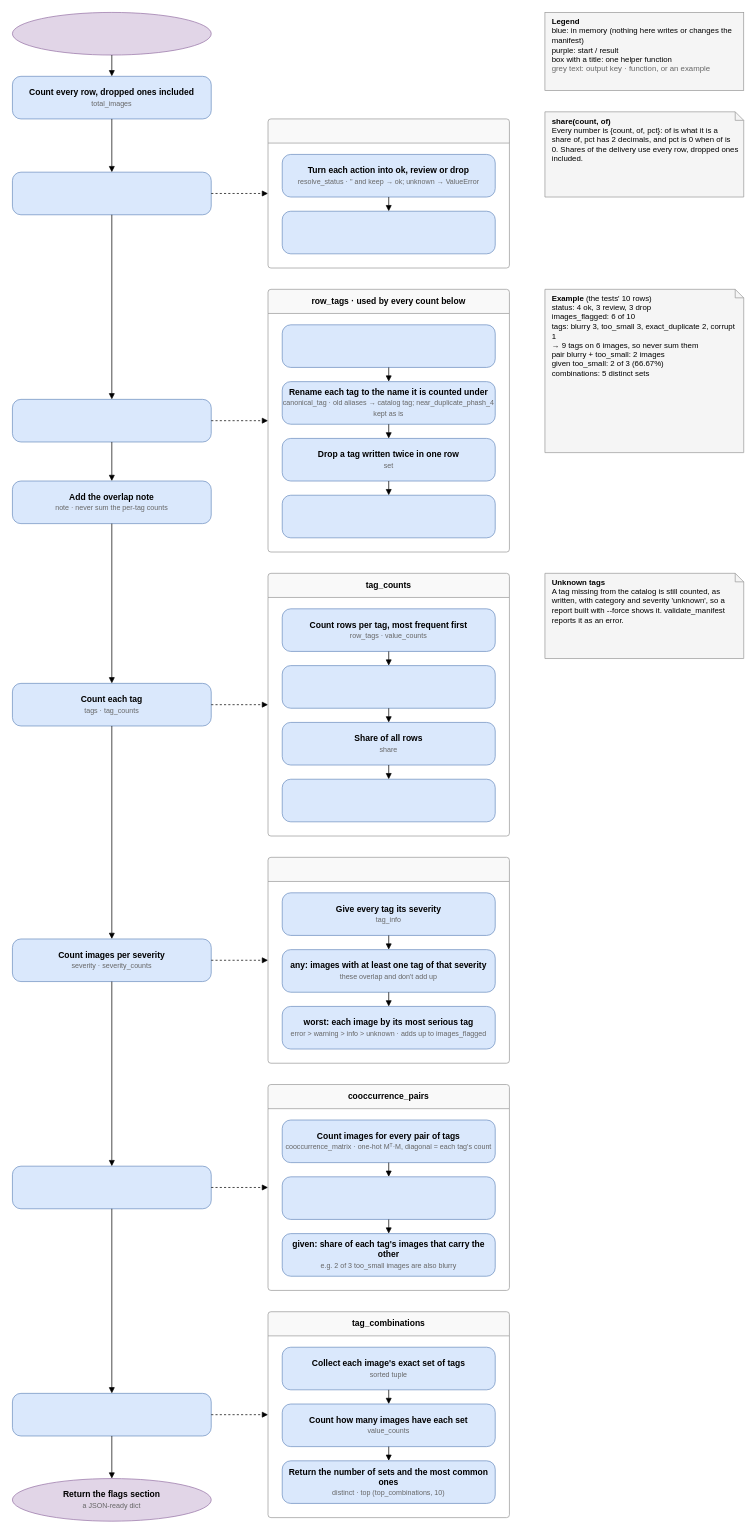
The diagram is 756 pixels wide and 1534 high, and some of its shapes have lost their labels. The box of each missing label's shape, as (x1, y1, x2, y2) in pixels:
Add each tag's category and severity tag_info · 'unknown' if not in the catalog: (282, 665, 495, 708)
Count images with at least one tag images_flagged · row_tags: (12, 399, 211, 442)
Count pairs of tags on the same image cooccurrence · cooccurrence_pairs: (12, 1165, 211, 1209)
Count rows per final status status · status_counts: (12, 171, 211, 215)
Count the exact tag sets combinations · tag_combinations: (12, 1393, 211, 1436)
flag_statistics(manifest, top_combinations) build_report · section 'flags': (12, 12, 211, 55)
Keep the pairs that share an image, most first share of all rows: (282, 1176, 495, 1219)
One entry per (row, tag); untagged rows drop out explode: (282, 495, 495, 538)
severity_counts: (267, 857, 509, 1063)
Share of all rows per status share · the three add up to the total: (282, 211, 495, 254)
Split each reason at ';' parse_tags: (282, 324, 495, 367)
Split each tag's rows by final status by_status · shows which policy was used: (282, 779, 495, 822)
status_counts: (267, 118, 509, 268)
